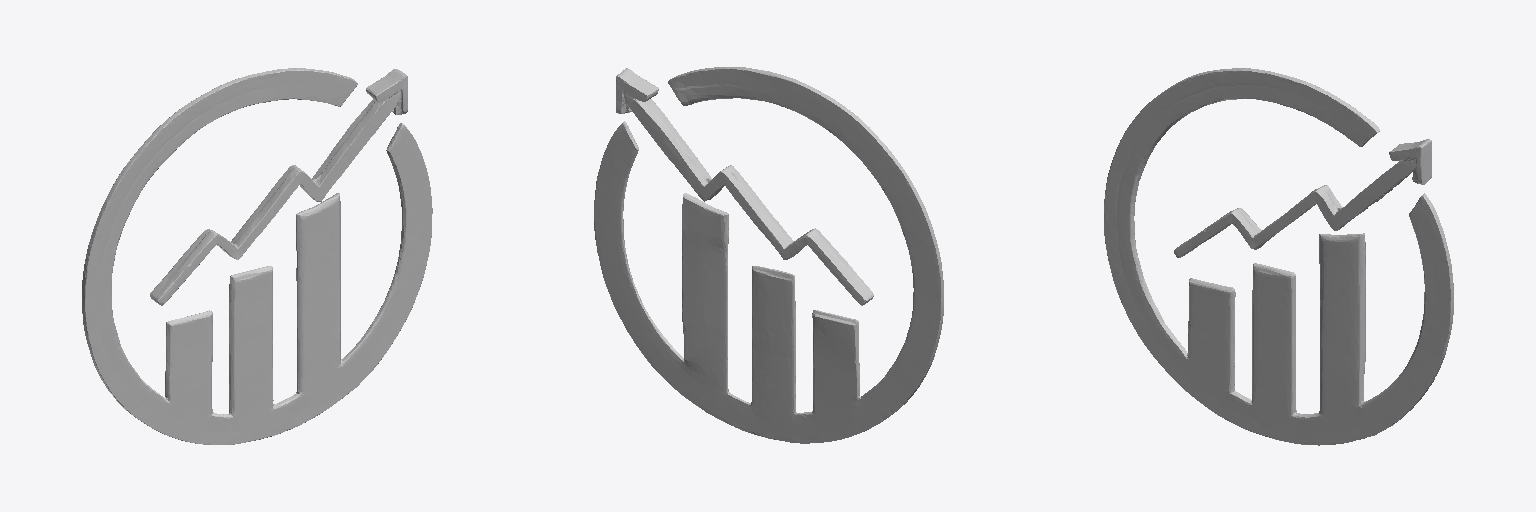
File: Graph_Ascendicon_0815104238_texture.obj
3 views of the same model, side by side, from view 1: azimuth 30°, elevation 25°; view 2: azimuth 150°, elevation 25°; view 3: azimuth 330°, elevation 25° (orthographic).
Visible parts, largest first — view 1: model; view 2: model; view 3: model.
Boxes of the visible parts, x1,y1,x2,y2 form: model: [82, 68, 432, 444]; model: [594, 67, 943, 443]; model: [1104, 68, 1453, 445].
Size of the model in its own units: 1.99 by 1.99 by 0.1119.